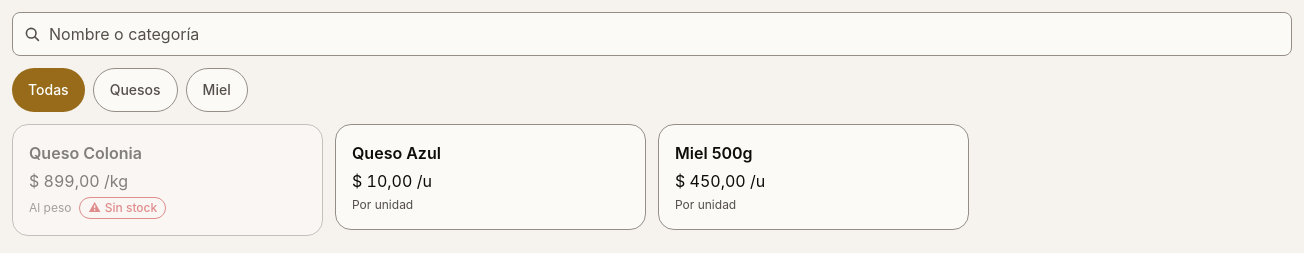
Test: GrillaProductos - chips de filtro por categoría (docs/06-ui-ux.md §3, tarea UI-3d) › compone con la búsqueda de texto (AND): el chip de categoría sigue elegido y la búsqueda además recorta dentro de ella
Click the button "Quesos": (135, 90) [93,68,178,112]
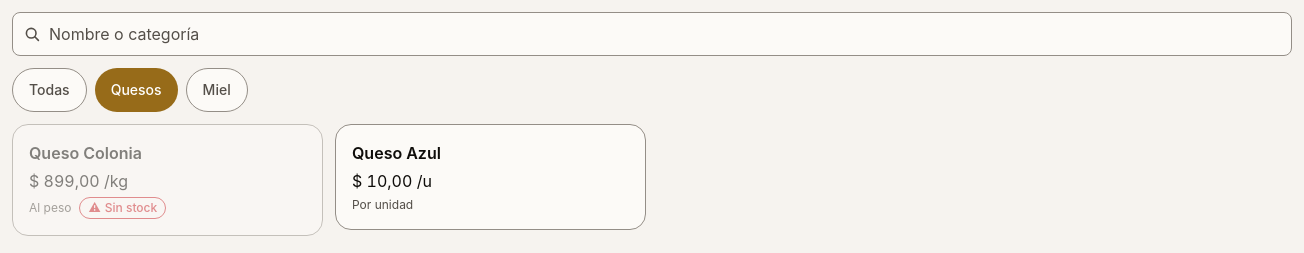
Expected: the text "Queso Colonia" is shown, [29,141,142,165]
Expected: the text "Queso Azul" is shown, [352,141,441,165]
In the search field named "Buscar producto": (652, 34) [12,12,1292,56], type "colonia"
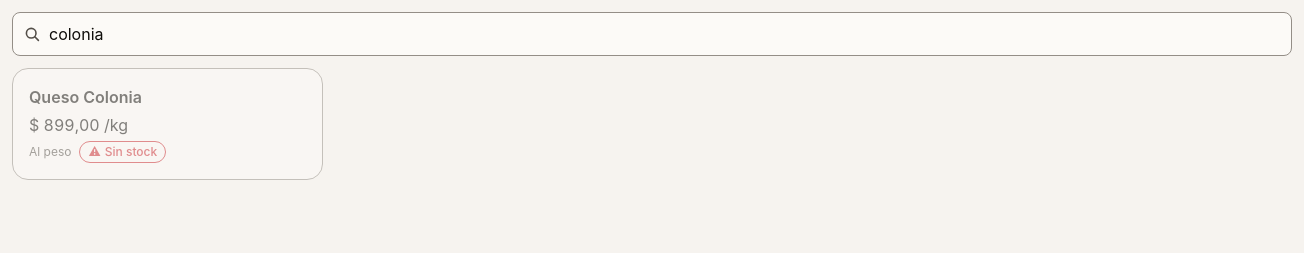
Expected: the text "Queso Colonia" is shown, [29,85,142,109]
Expected: the button "Queso Azul" is gone
